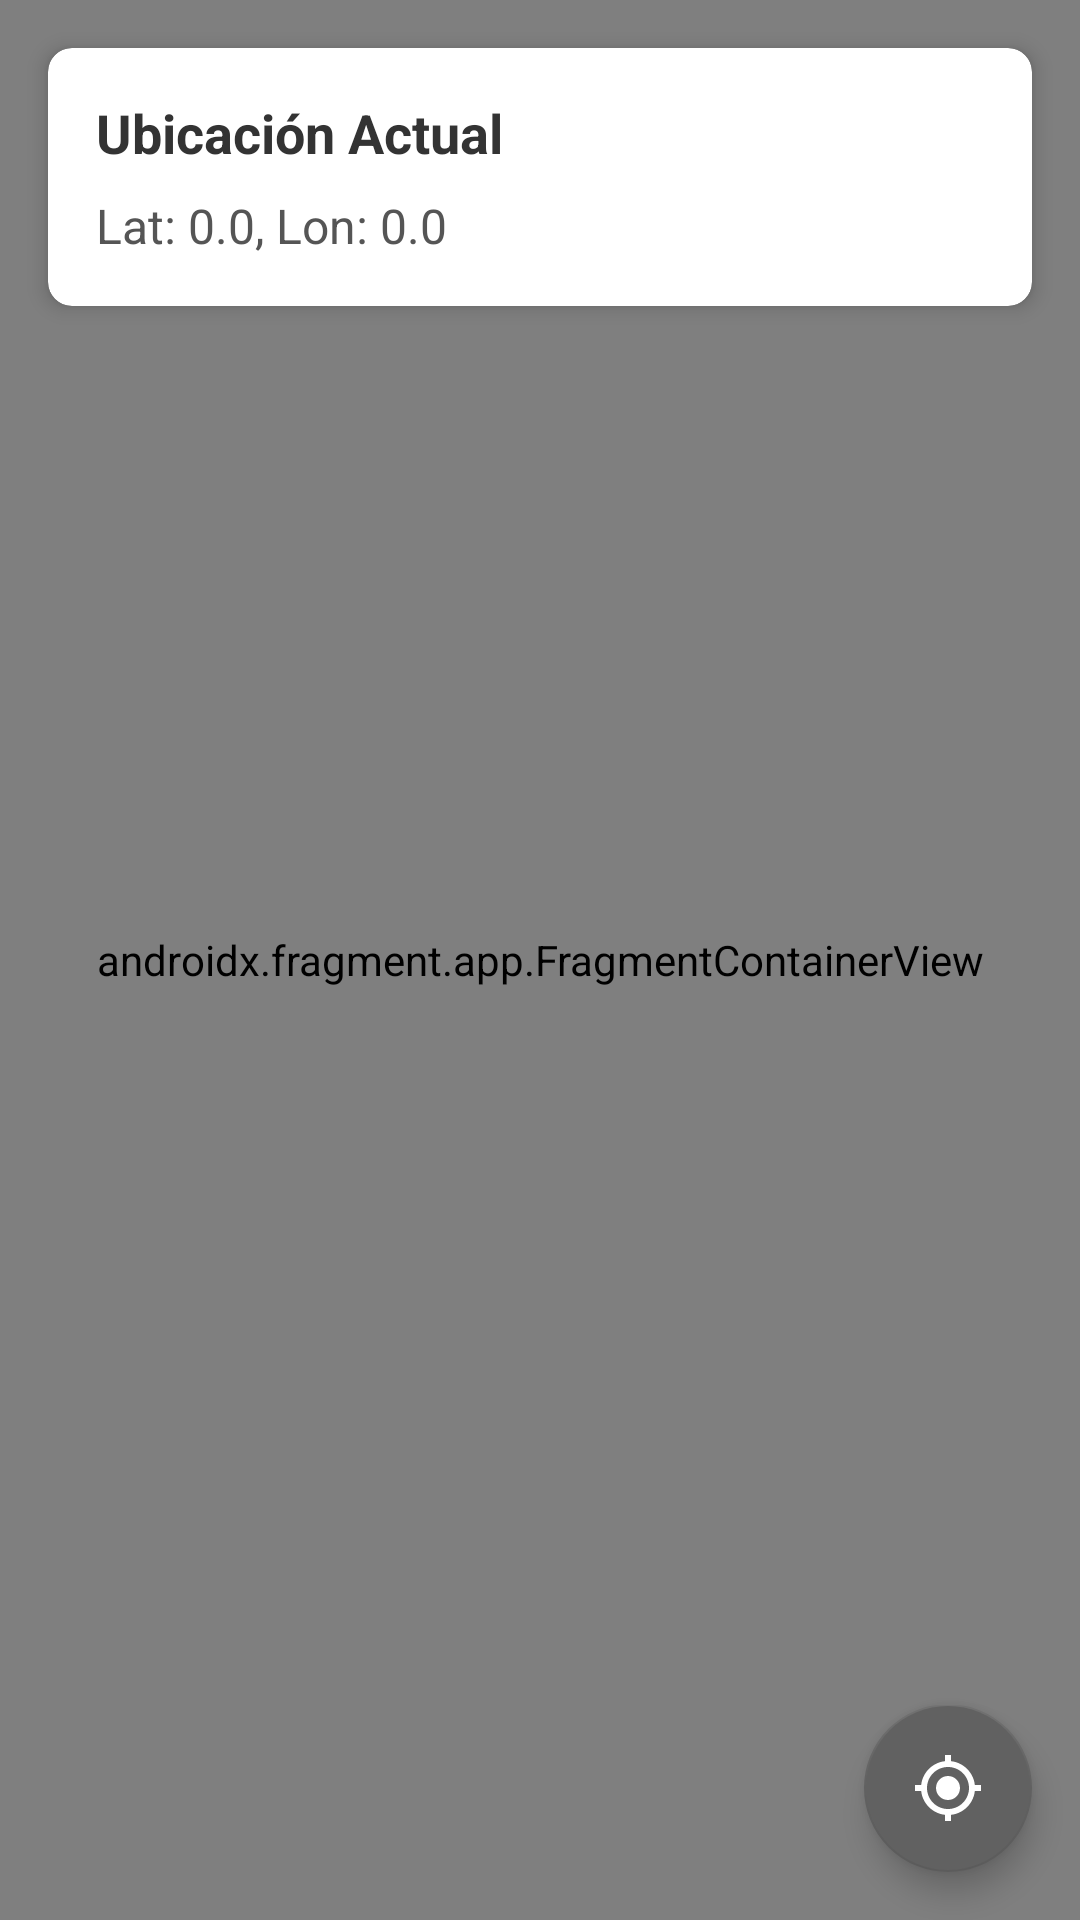

Icons on this 1080*1920 Android screen, each with the point to tap as point (x, y):
location: point (948, 1789)
